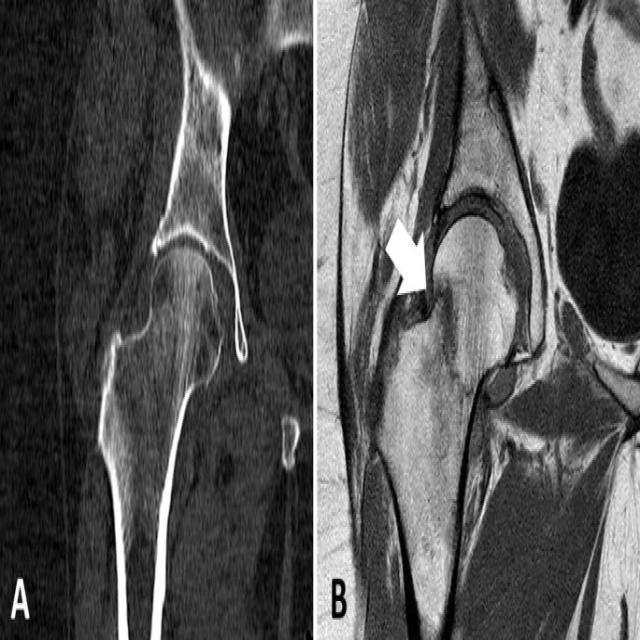Oblique Displaced: (427, 270, 479, 426)
